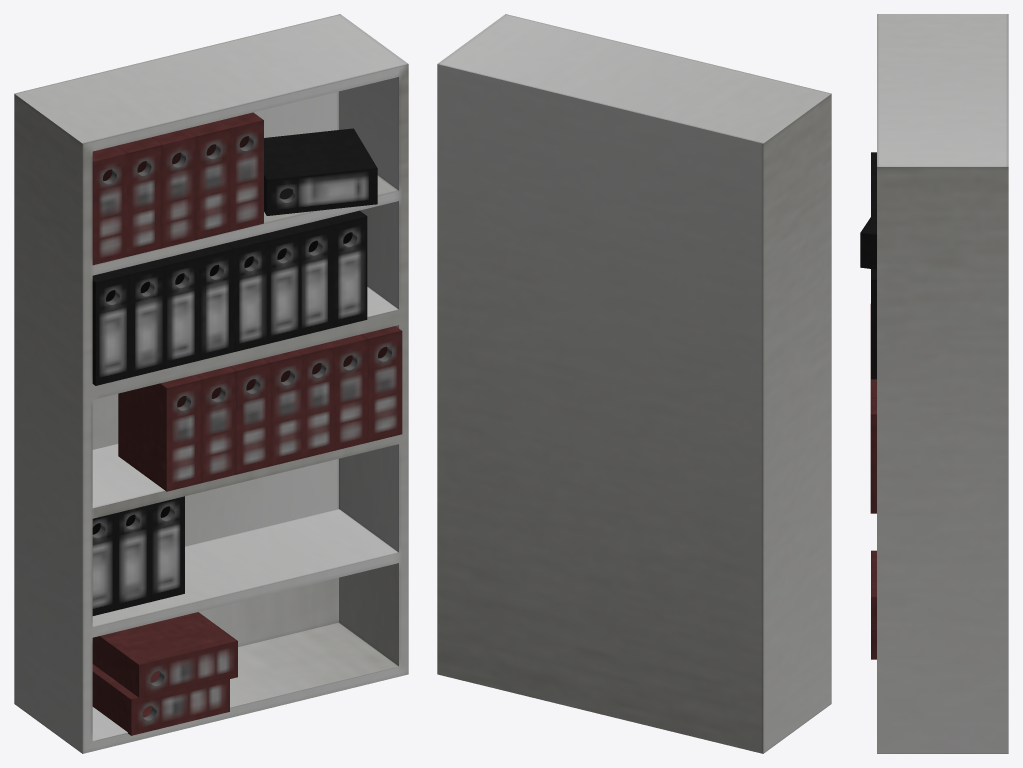
The picture shows the model from 3 angles, left to right: view 1: azimuth 30°, elevation 25°; view 2: azimuth 150°, elevation 25°; view 3: azimuth 270°, elevation 25°; orthographic projection. The views are drawn at different scales.
Visible parts, largest first — view 1: Cubo.003; view 2: Cubo.003; view 3: Cubo.003.
Boxes of the visible parts, <box> form: Cubo.003: <box>14,14,408,753</box>; Cubo.003: <box>437,14,831,753</box>; Cubo.003: <box>860,14,1008,753</box>.
Size of the model in its own units: 1.08 by 1.92 by 0.441.
1 material, 1 textured.
